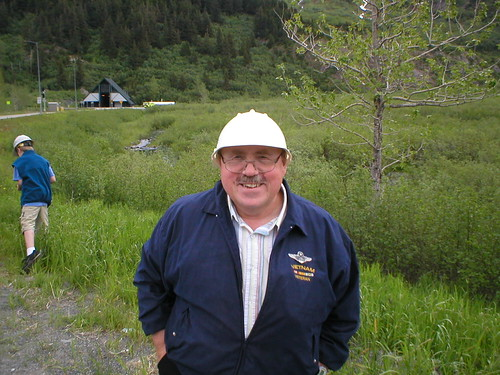person hardhat: (211, 109, 291, 209), (12, 135, 34, 157)
